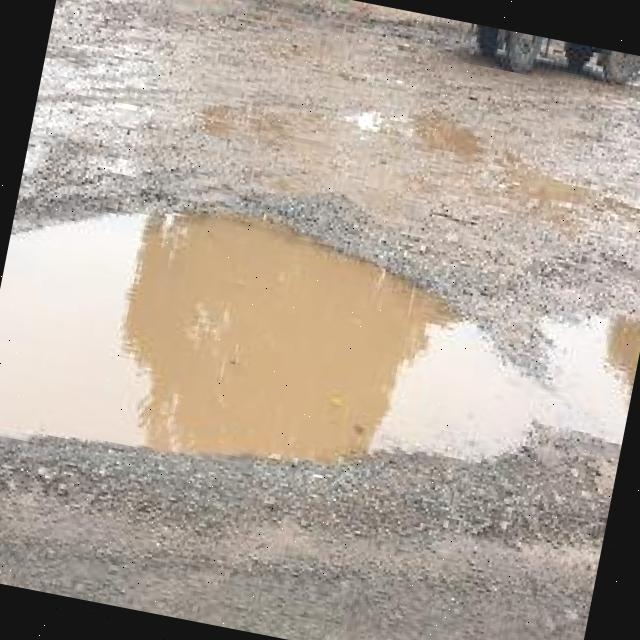stagnation: (0, 186, 640, 451)
